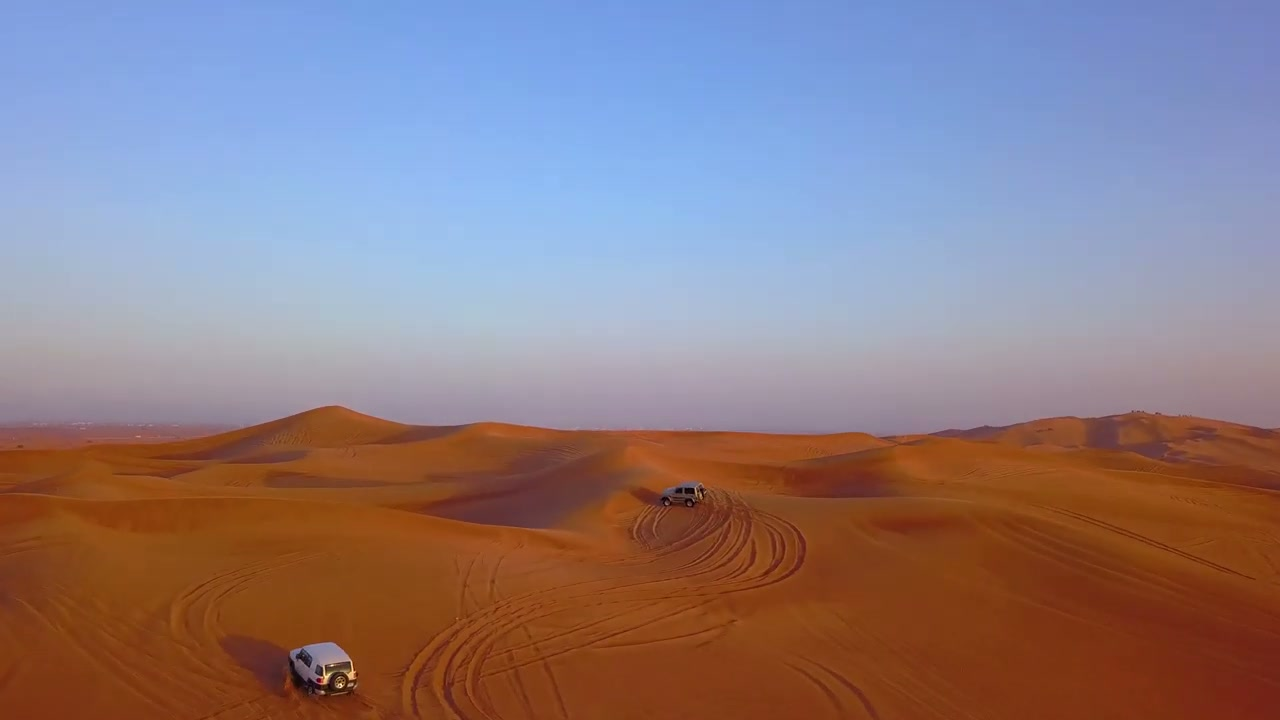vehicle_track: (401, 492, 805, 719), (169, 551, 321, 670), (1036, 504, 1255, 579), (786, 658, 879, 719)
